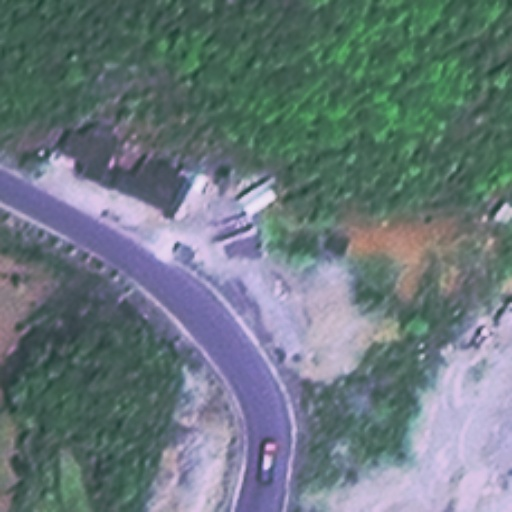landslide: (346, 205, 465, 300)
